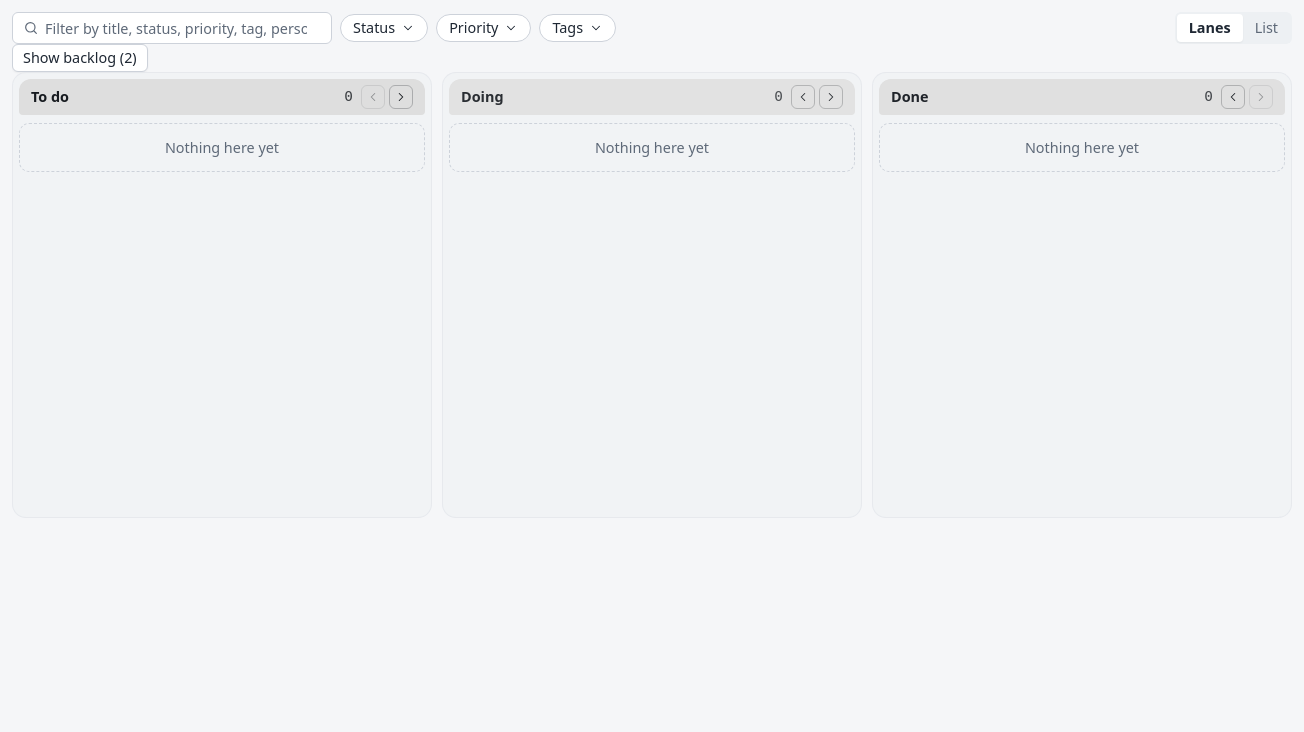
Test: Add in the panel › shows a server refusal in an alert and keeps the task listed
The width and height of the screenshot is (1304, 732).
Click the button "Show backlog (2)" at point(80, 58), box [12,44,148,72]
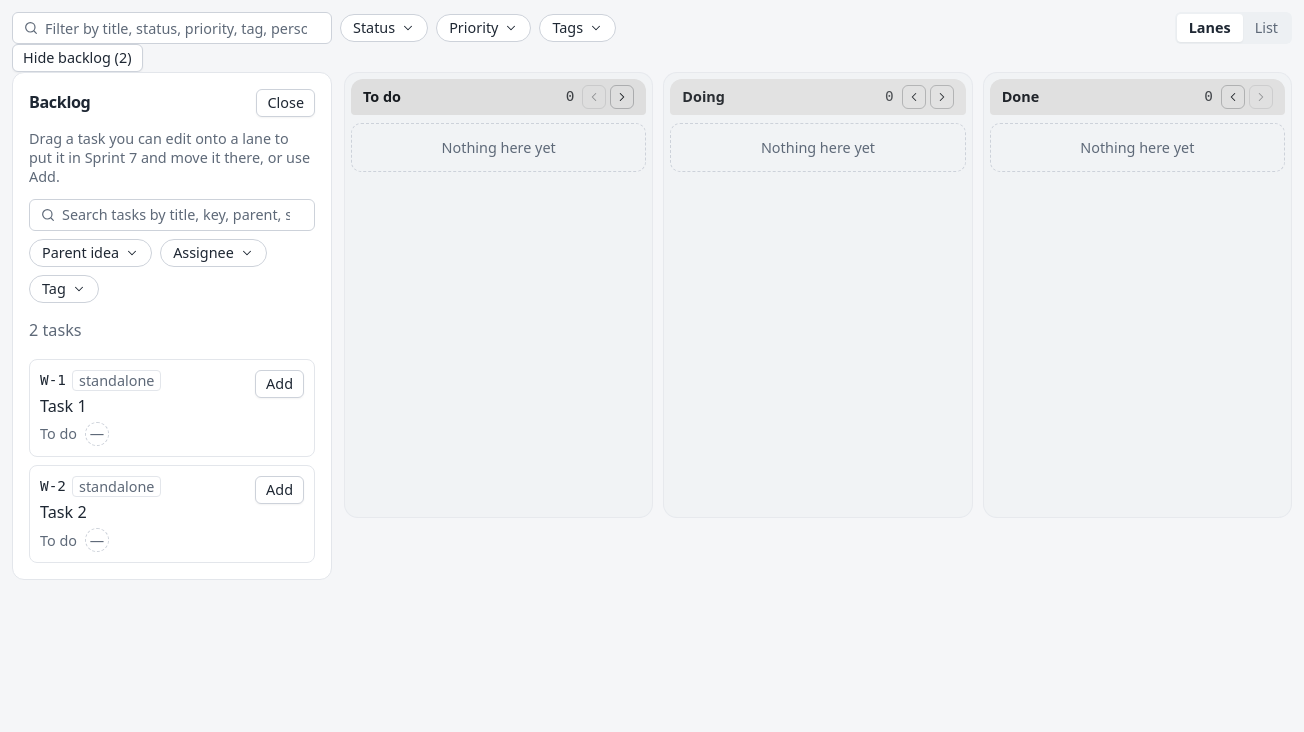
Click the button with aria-label "Add W-1 to Sprint 7" at point(280, 384), box [255,370,304,398]
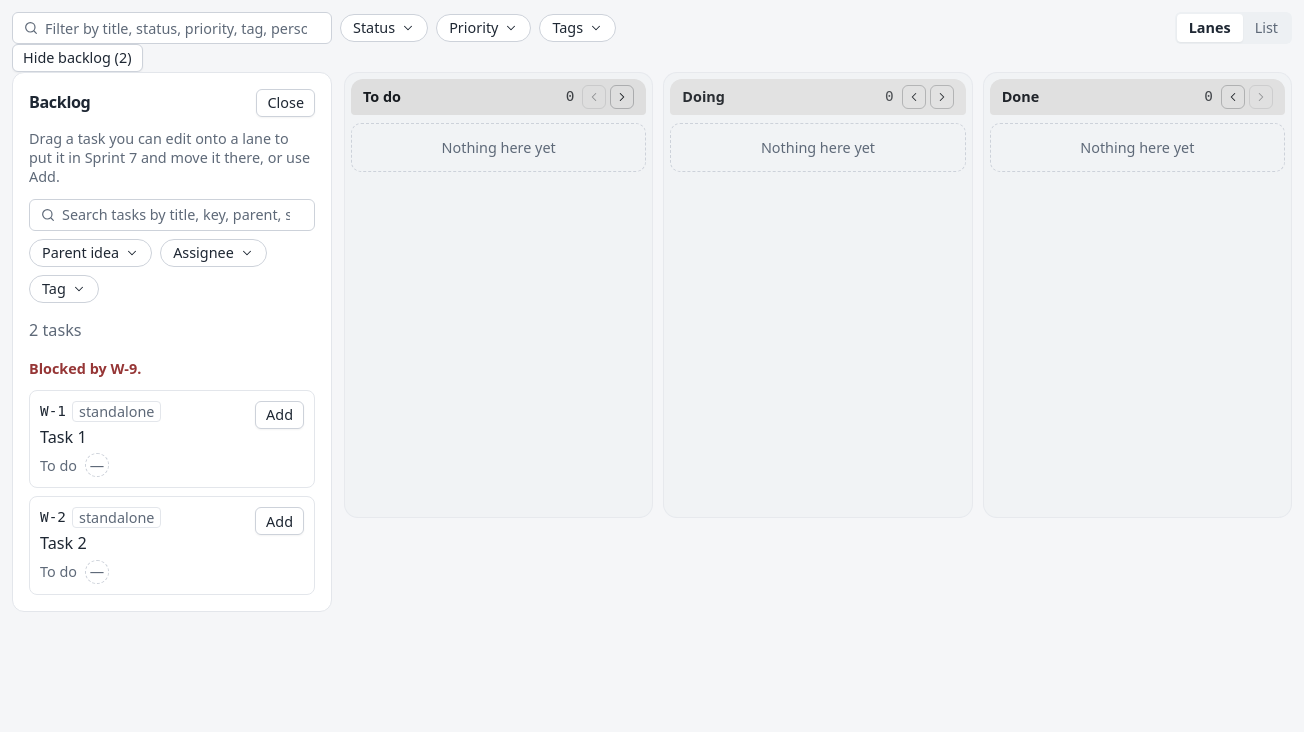
Check: the message "Blocked by W-9." is shown, box [29,359,141,378]
